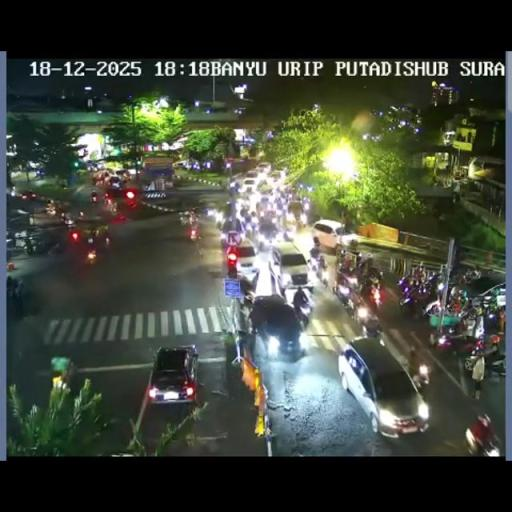Car: (339, 335, 429, 434), (248, 295, 306, 360), (147, 345, 200, 405), (269, 242, 310, 294), (312, 219, 358, 253), (226, 236, 258, 282), (105, 176, 125, 196), (241, 178, 259, 192), (268, 170, 285, 184), (20, 190, 39, 201), (255, 162, 271, 174), (114, 169, 130, 181), (258, 182, 274, 194), (173, 160, 191, 169)
Motorcycle: (429, 308, 478, 351), (462, 333, 504, 374), (464, 413, 502, 454), (352, 292, 382, 337), (398, 280, 430, 318), (292, 287, 312, 323), (452, 266, 482, 288), (484, 302, 504, 332), (420, 269, 442, 295), (333, 276, 352, 306), (447, 287, 468, 312), (362, 264, 382, 286), (316, 260, 330, 286), (46, 238, 64, 256), (424, 299, 442, 317), (188, 216, 201, 240), (4, 234, 18, 256), (309, 244, 321, 266), (247, 215, 259, 235), (86, 245, 98, 264), (286, 218, 298, 236), (178, 210, 190, 226), (24, 240, 37, 254), (296, 212, 306, 230), (46, 200, 58, 215), (214, 209, 224, 226), (62, 214, 76, 226), (86, 233, 96, 247), (102, 231, 110, 248), (302, 196, 310, 213), (103, 194, 112, 208), (451, 190, 460, 204)
